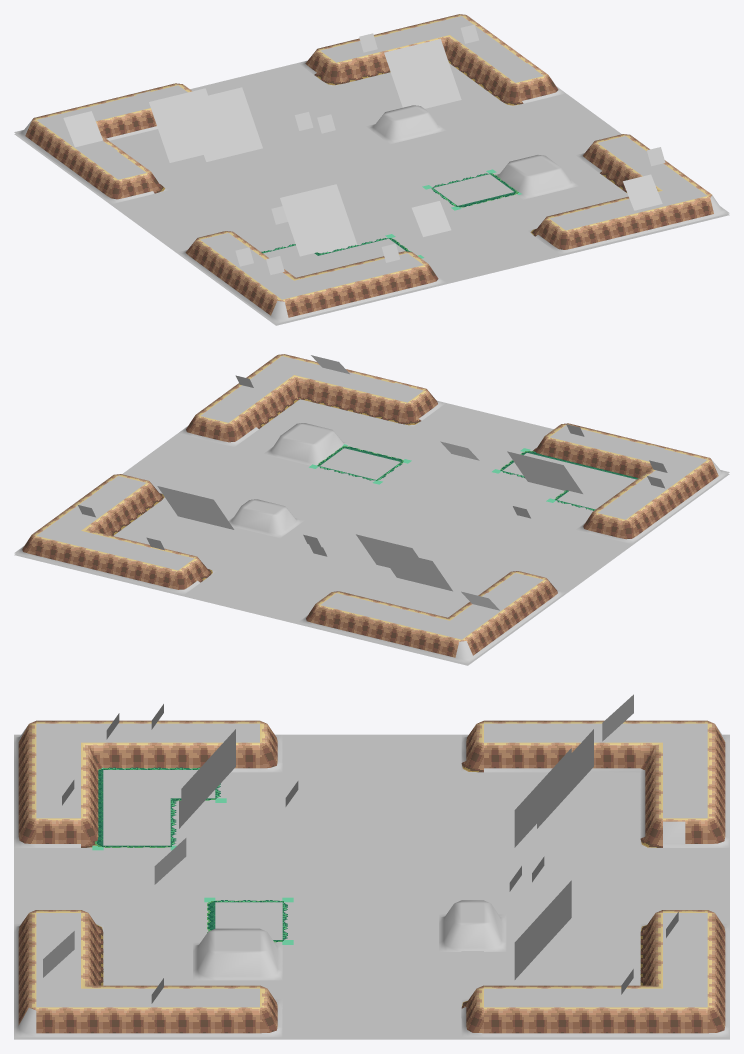
Rendered from Safari Zone_Areas - Savannah.fbx.
The picture shows the model from 3 angles, top to bottom: view 1: azimuth 30°, elevation 25°; view 2: azimuth 150°, elevation 25°; view 3: azimuth 270°, elevation 25°; orthographic projection. The views are drawn at different scales.
Parts seen in each view (by area): view 1: m_saf03_00_00c; view 2: m_saf03_00_00c; view 3: m_saf03_00_00c.
Part boxes in pixels (left/top/right/bottom): m_saf03_00_00c: left=14, top=14, right=729, bottom=325; m_saf03_00_00c: left=14, top=354, right=729, bottom=665; m_saf03_00_00c: left=14, top=694, right=729, bottom=1039.
Bounding box in the file's own units: 51200 × 5134 × 51200.
